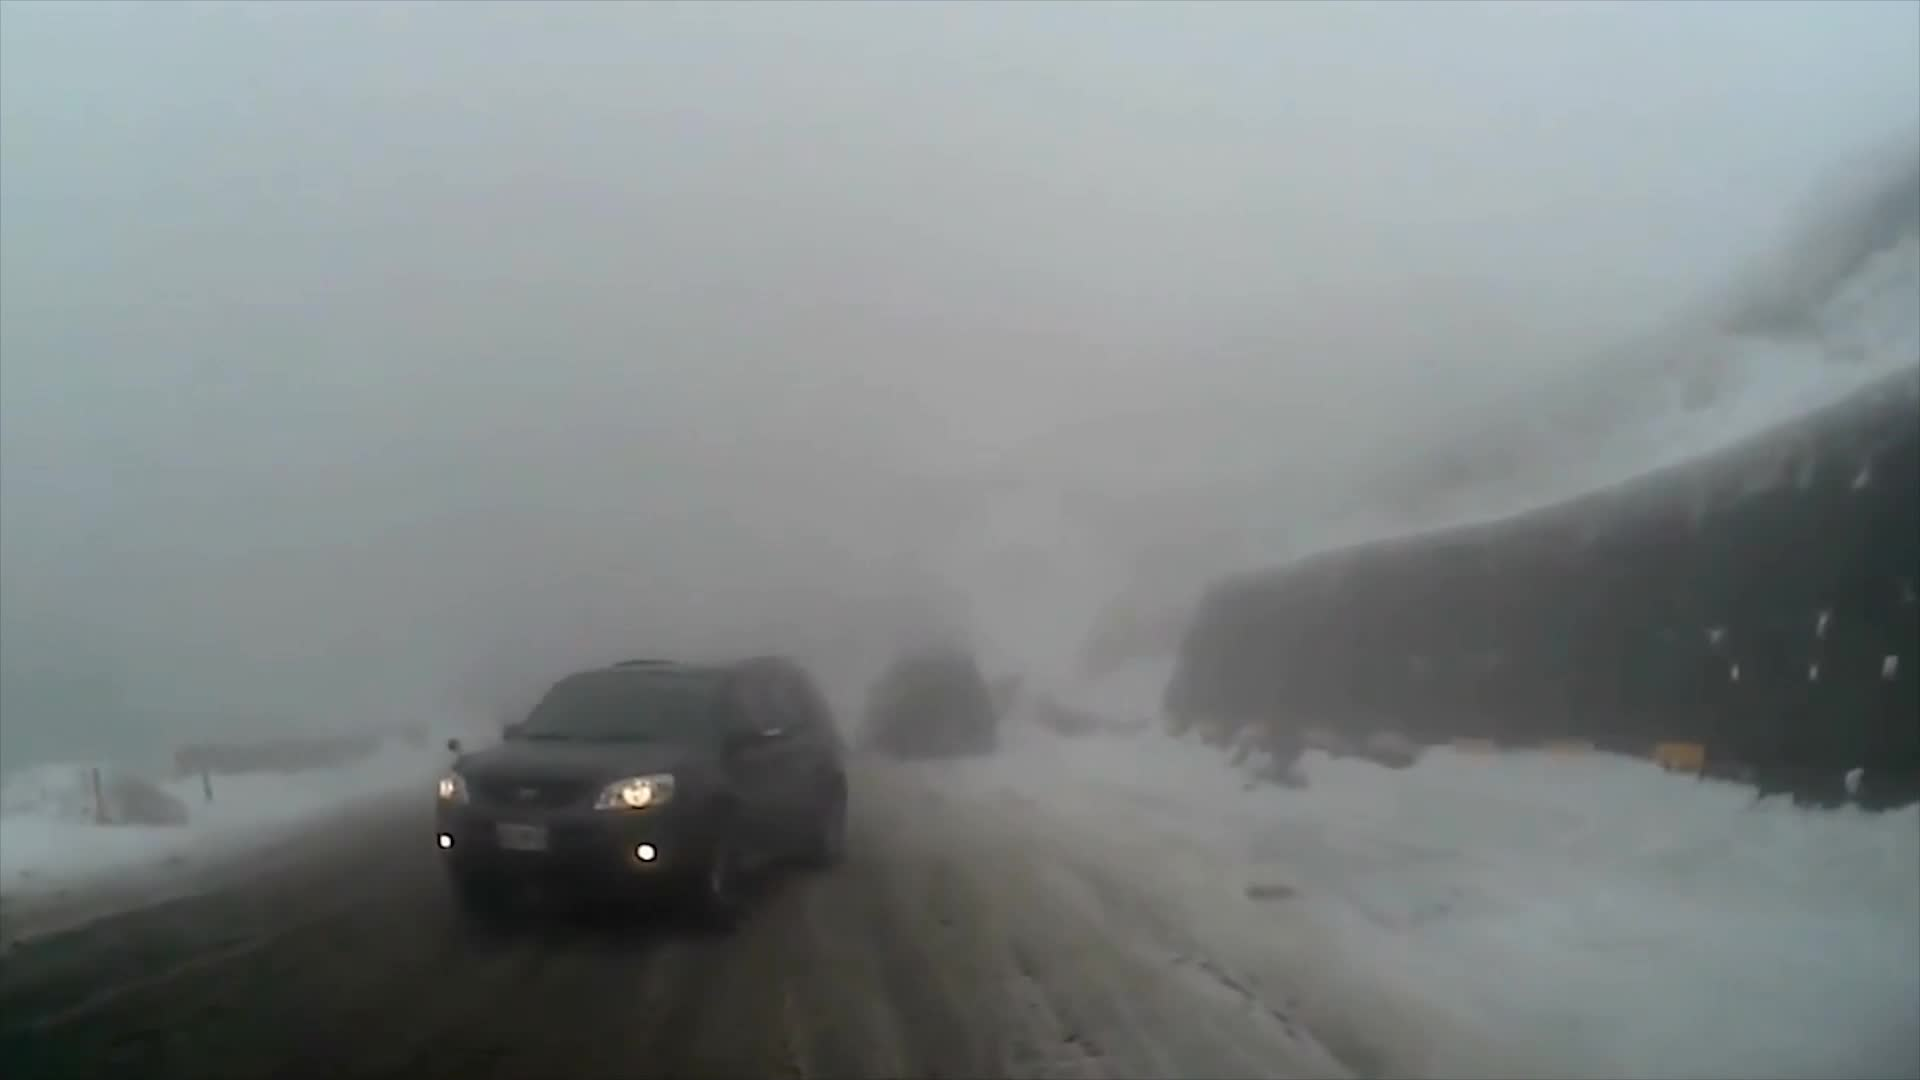vehicle: (429, 651, 849, 927), (861, 649, 992, 760)
